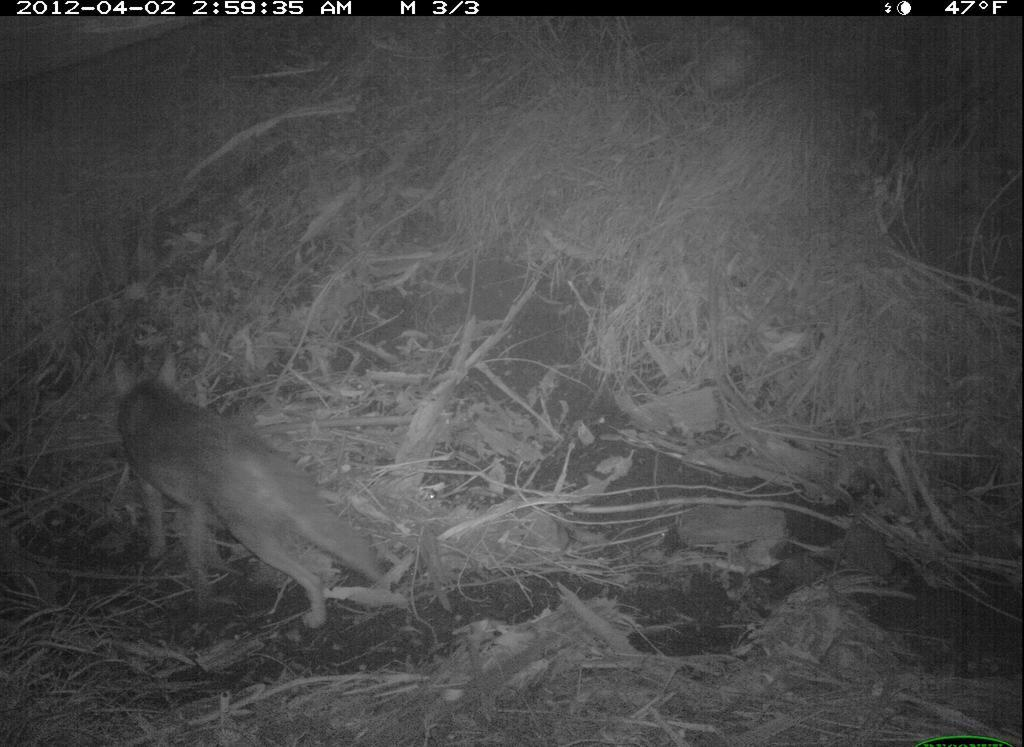coyote: (103, 346, 419, 637)
